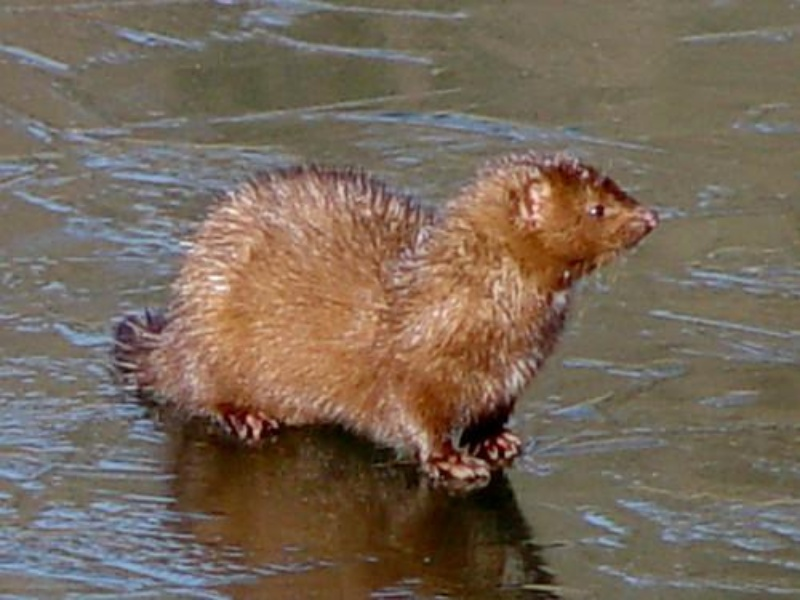minkish: (109, 146, 663, 497)
